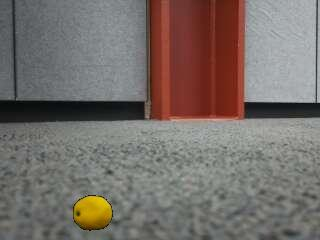lemon: (74, 196, 111, 229)
